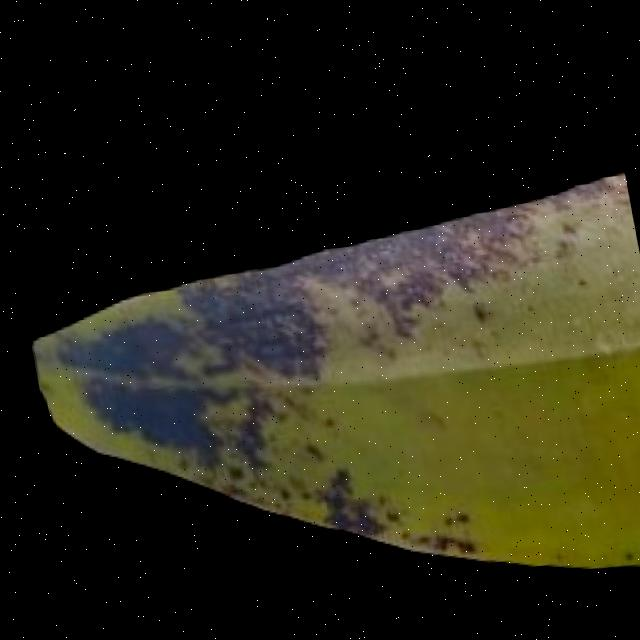mite: (38, 255, 480, 599), (259, 249, 556, 571), (303, 452, 477, 572), (306, 464, 356, 523), (458, 293, 494, 328), (606, 539, 638, 568), (563, 267, 593, 293), (436, 507, 467, 528), (295, 438, 320, 461), (464, 299, 486, 322), (375, 504, 396, 524), (569, 270, 587, 287), (614, 545, 632, 559)
spots: (8, 153, 640, 640)
